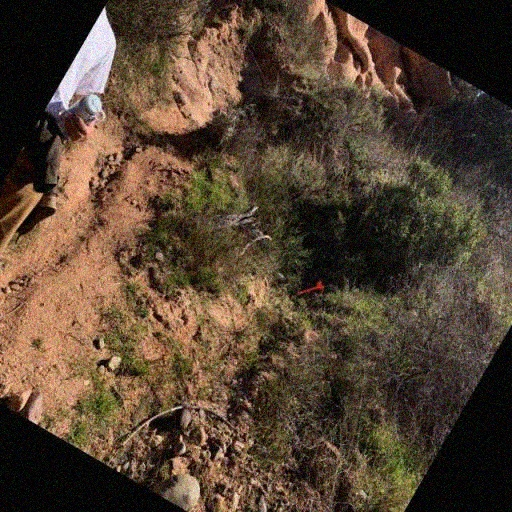mallet: (290, 268, 332, 314)
